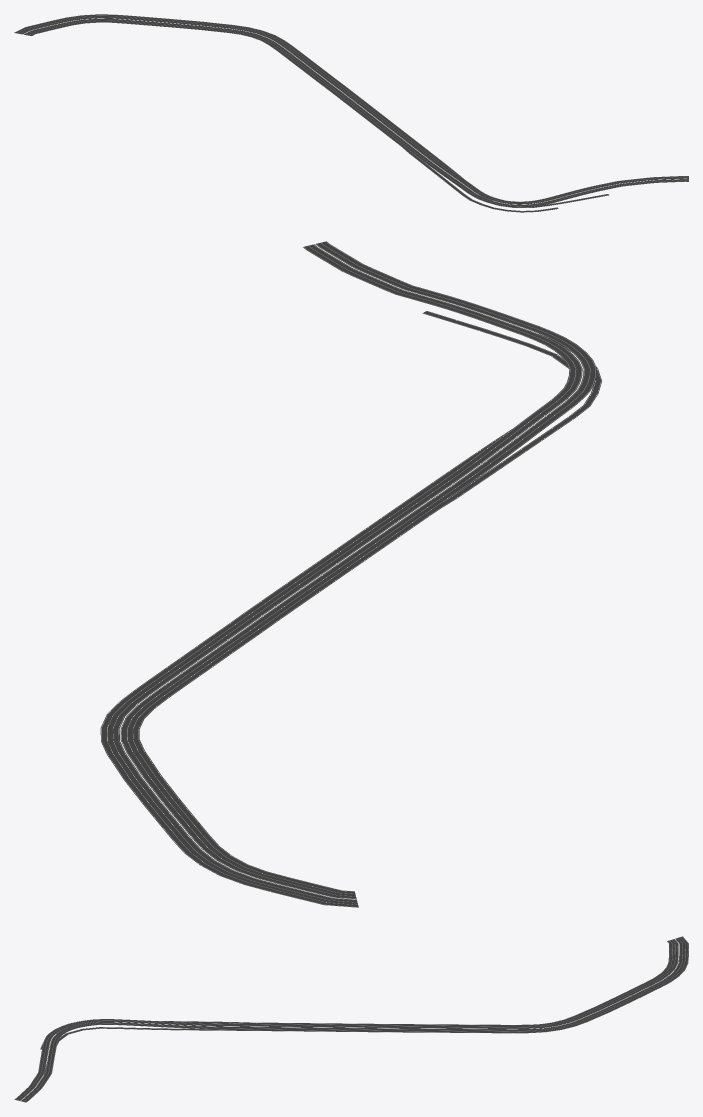
Rendered from road.glb.
The picture shows the model from 3 angles, top to bottom: view 1: azimuth 30°, elevation 25°; view 2: azimuth 150°, elevation 25°; view 3: azimuth 270°, elevation 25°; orthographic projection. The views are drawn at different scales.
Parts seen in each view (by area): view 1: itRoad; view 2: itRoad; view 3: itRoad.
Boxes of the visible parts, <box> form: itRoad: <box>14,14,688,212</box>; itRoad: <box>100,241,601,907</box>; itRoad: <box>14,936,688,1102</box>.
Size of the model in its own units: 425 by 9.61 by 696.
1 material, 1 textured.
